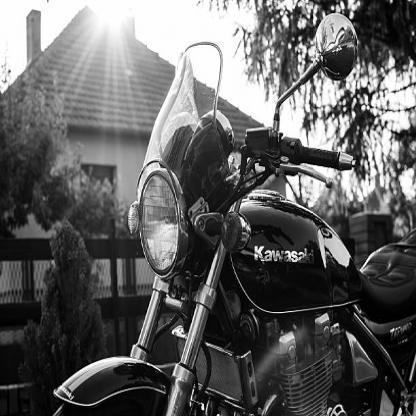Motorcycle: (45, 2, 415, 415)
